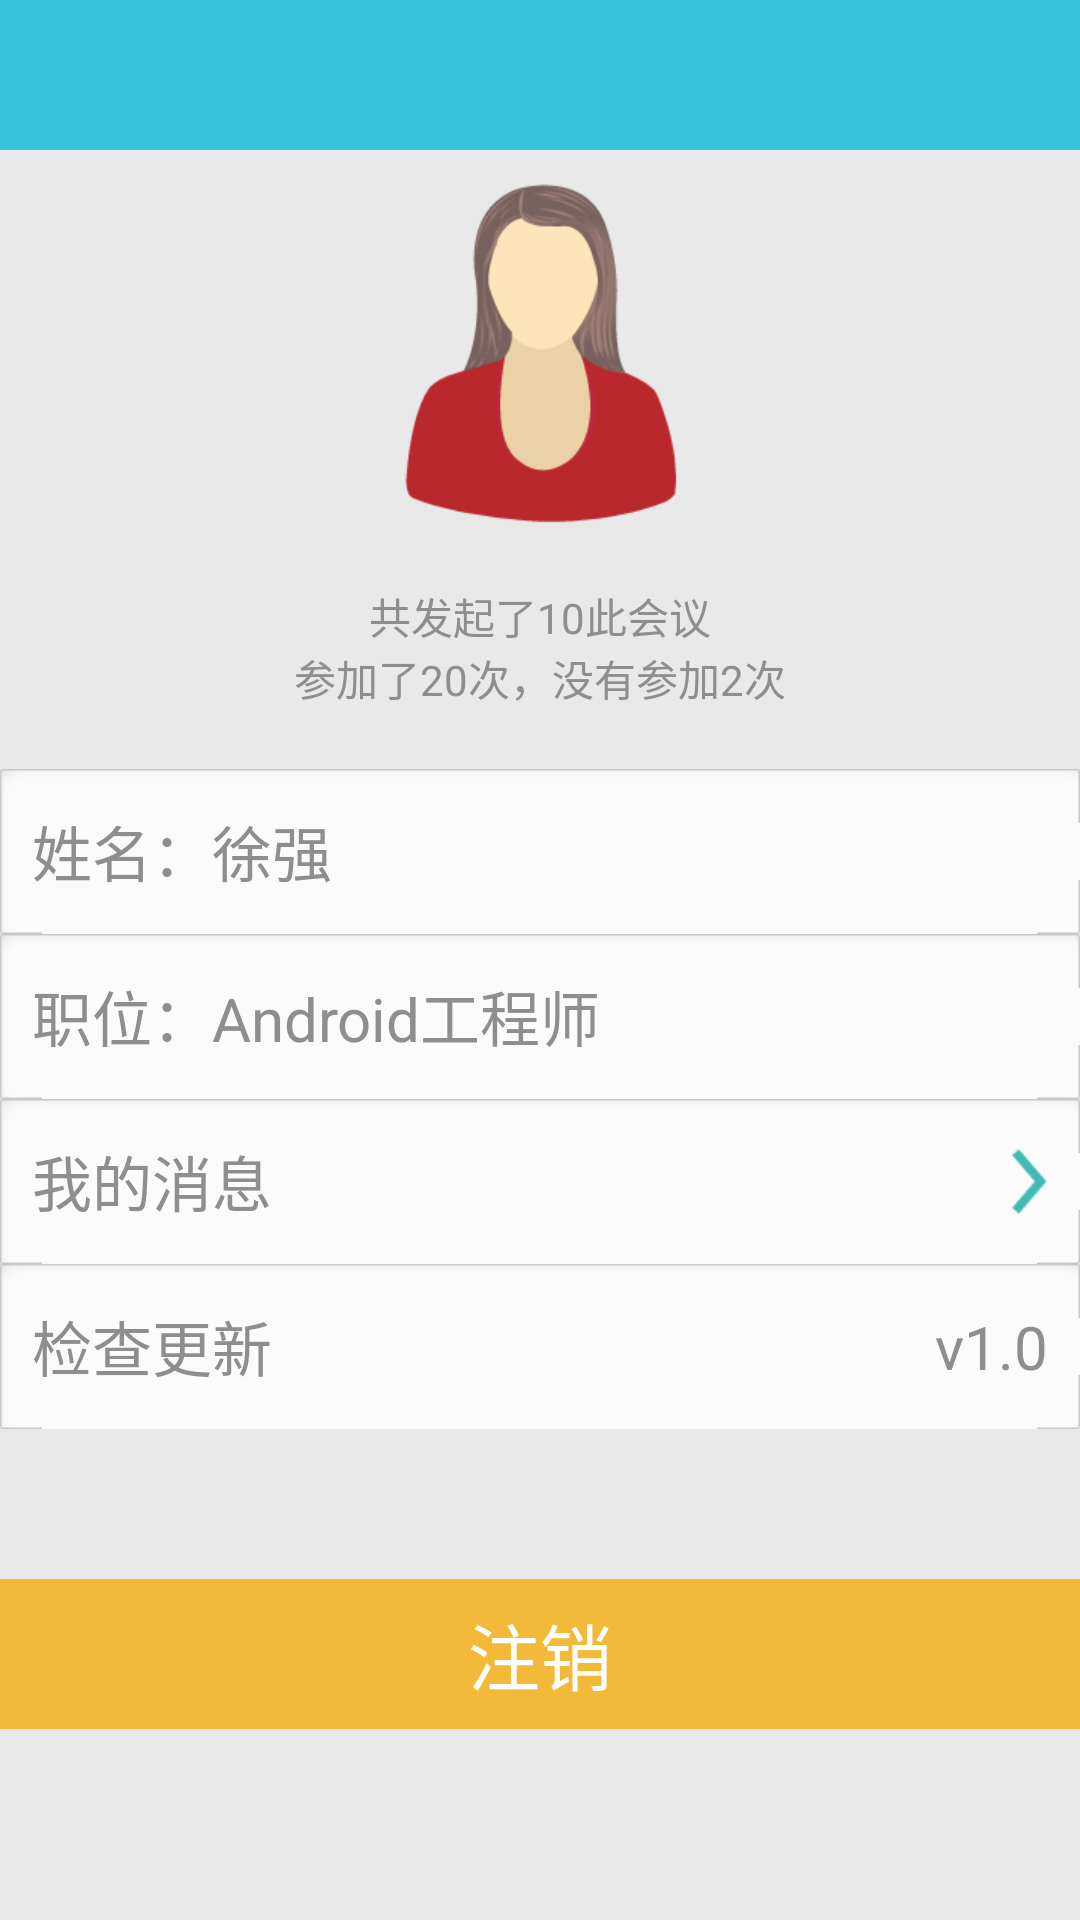

Icons on this 1080 × 1920 Android screen, each with its box as region(x1, y1, x2, y2):
lady pic: region(405, 184, 677, 523)
more: region(1012, 1149, 1047, 1214)
